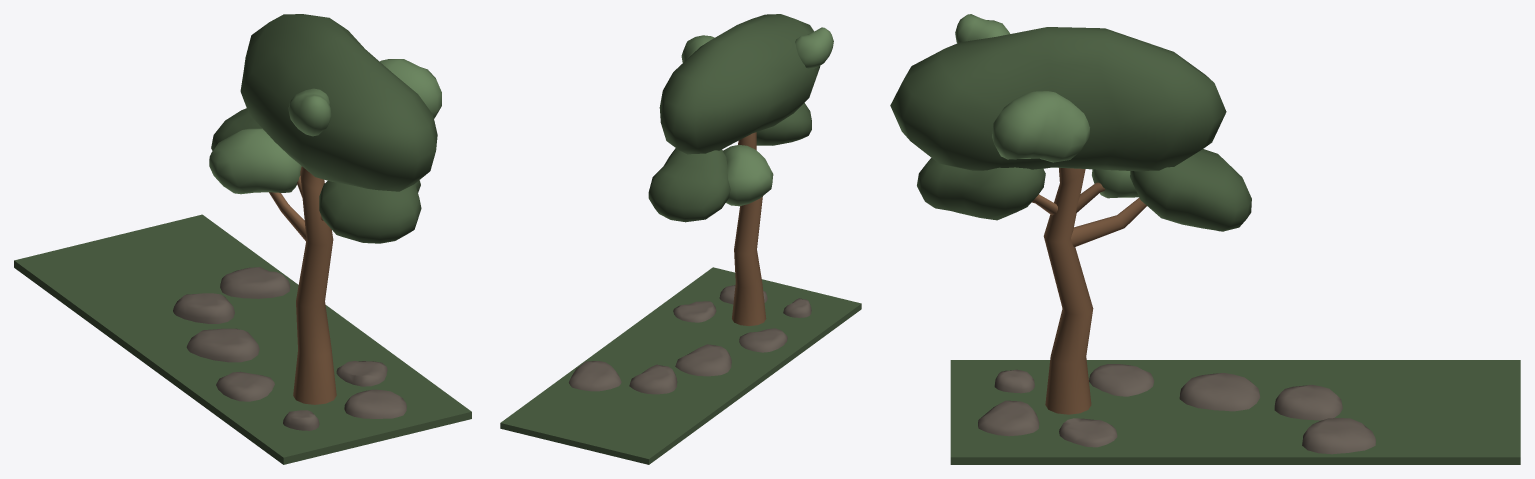
File: Japanese_Building4__garden.fbx
3 renders of one model, left to right at view 1: azimuth 30°, elevation 25°; view 2: azimuth 150°, elevation 25°; view 3: azimuth 270°, elevation 25°, orthographic. The views are drawn at different scales.
Parts seen in each view (by area): view 1: pCube169, polySurface685, polySurface681, polySurface688, polySurface687, pCube108, pCube106, polySurface690, pCube107, pCube112, polySurface689, pCube111 (+4 smaller); view 2: pCube169, polySurface685, polySurface686, polySurface681, polySurface687, pCube108, polySurface688, pCube106, polySurface690, pCube107, pCube111, pCube109 (+2 smaller); view 3: pCube169, polySurface685, polySurface681, polySurface686, polySurface688, polySurface689, pCube108, pCube106, pCube107, pCube112, pCube111, pCube109 (+4 smaller).
Boxes of the visible parts, x1=… form: pCube169: x1=14, y1=214, x2=471, y2=464; polySurface685: x1=240, y1=14, x2=437, y2=191; polySurface681: x1=293, y1=166, x2=336, y2=404; polySurface688: x1=319, y1=180, x2=421, y2=243; polySurface687: x1=209, y1=128, x2=301, y2=194; pCube108: x1=186, y1=328, x2=259, y2=362; pCube106: x1=220, y1=267, x2=290, y2=298; polySurface690: x1=288, y1=88, x2=331, y2=136; pCube107: x1=173, y1=293, x2=234, y2=323; pCube112: x1=344, y1=389, x2=406, y2=418; polySurface689: x1=380, y1=59, x2=441, y2=118; pCube111: x1=216, y1=371, x2=274, y2=401; pCube169: x1=500, y1=267, x2=861, y2=464; polySurface685: x1=659, y1=14, x2=820, y2=154; polySurface686: x1=648, y1=148, x2=730, y2=222; polySurface681: x1=732, y1=132, x2=766, y2=325; polySurface687: x1=723, y1=145, x2=773, y2=206; pCube108: x1=675, y1=344, x2=731, y2=376; polySurface688: x1=756, y1=103, x2=811, y2=145; pCube106: x1=569, y1=361, x2=621, y2=391; polySurface690: x1=795, y1=27, x2=833, y2=68; pCube107: x1=629, y1=364, x2=677, y2=394; pCube111: x1=739, y1=328, x2=787, y2=352; pCube109: x1=673, y1=301, x2=716, y2=322; pCube169: x1=950, y1=360, x2=1520, y2=464; polySurface685: x1=890, y1=27, x2=1226, y2=171; polySurface681: x1=1043, y1=168, x2=1093, y2=414; polySurface686: x1=1130, y1=149, x2=1251, y2=231; polySurface688: x1=917, y1=158, x2=1045, y2=220; polySurface689: x1=992, y1=91, x2=1089, y2=162; pCube108: x1=1179, y1=373, x2=1260, y2=411; pCube106: x1=1302, y1=418, x2=1375, y2=454; pCube107: x1=1274, y1=385, x2=1342, y2=420; pCube112: x1=978, y1=400, x2=1039, y2=436; pCube111: x1=1089, y1=364, x2=1154, y2=396; pCube109: x1=1059, y1=418, x2=1117, y2=447.
Bounding box in the file's own units: 667 × 1239 × 1815.
